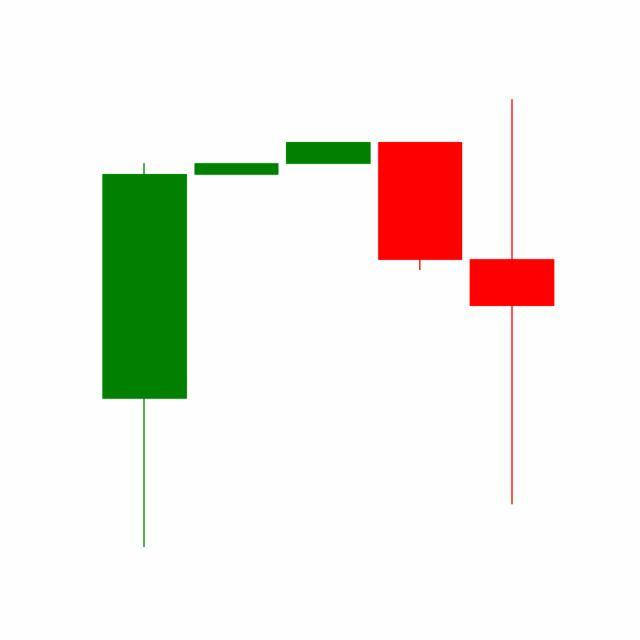Marubozu: (374, 141, 468, 273)
